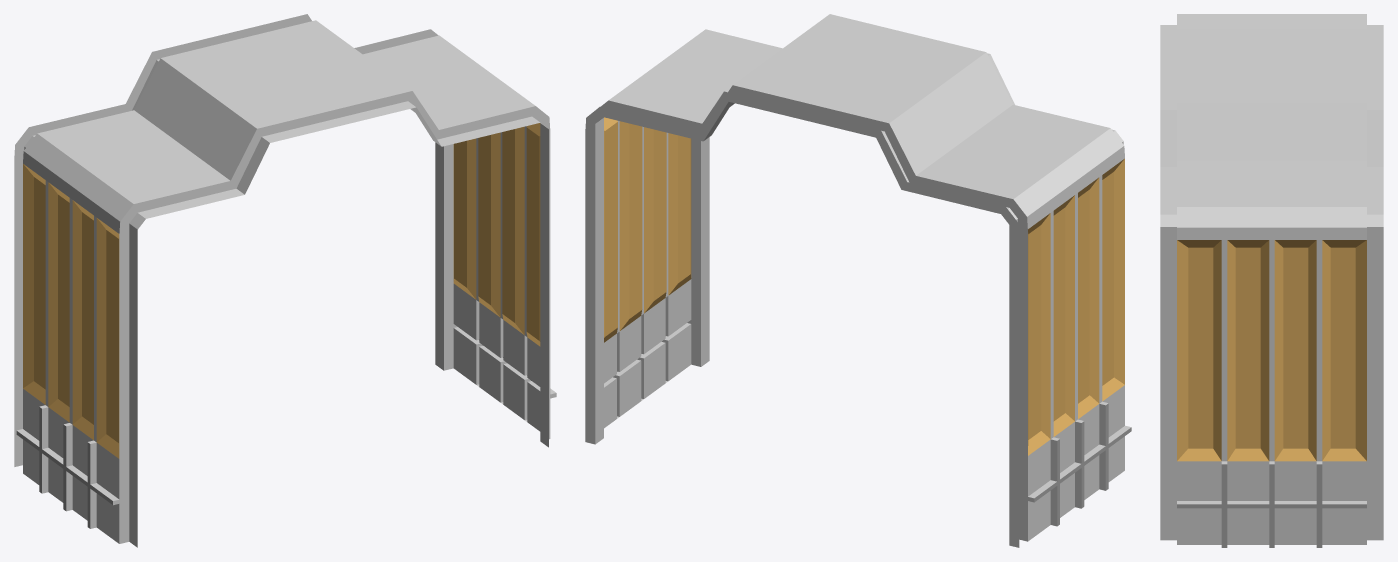
File: SM_Corridor_A.fbx
3 renders of one model, left to right at view 1: azimuth 30°, elevation 25°; view 2: azimuth 150°, elevation 25°; view 3: azimuth 270°, elevation 25°, orthographic. The views are drawn at different scales.
Visible parts, largest first — view 1: SM_Corridor_A; view 2: SM_Corridor_A; view 3: SM_Corridor_A.
Boxes of the visible parts, x1,y1,x2,y2 form: SM_Corridor_A: (14,14,556,547); SM_Corridor_A: (585,14,1131,547); SM_Corridor_A: (1160,14,1383,547).
Size of the model in its own units: 4.51 by 3.71 by 2.
